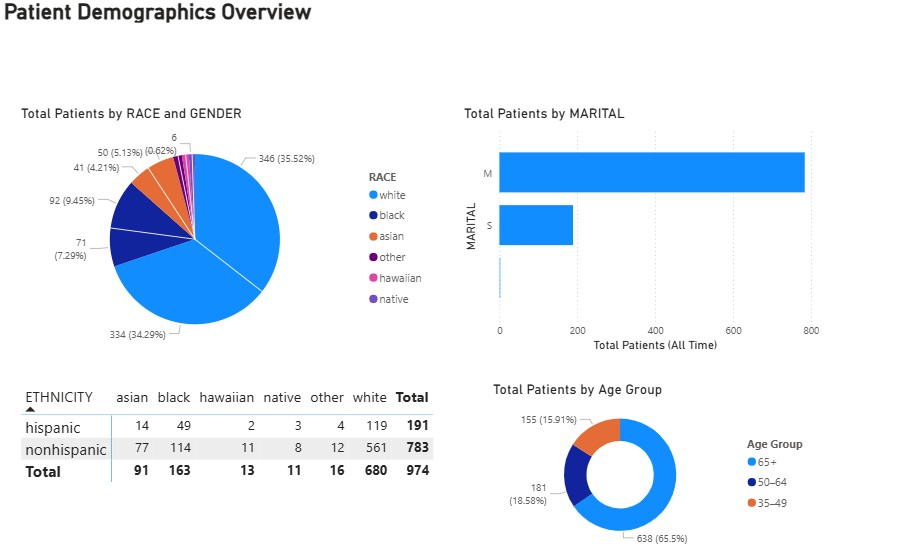

The page's visual inventory and layout, read from the dashboard file:
{"tool":"powerbi","page":{"name":"Patient Demographics","canvas":[1280,720],"ordinal":1},"visuals":[{"type":"pieChart","title":"Total Patients by RACE and GENDER","fields":{"Category":["patients.ETHNICITY","patients.MARITAL","patients.RACE"],"Series":["patients.GENDER"],"Y":["patients.Total Patients"]},"box":[34.9,144.6,507.3,307.8],"z":0},{"type":"clusteredBarChart","title":"Total Patients by MARITAL","fields":{"Category":["patients.MARITAL"],"Y":["patients.Total Patients (All Time)"]},"box":[574.6,144.6,442.5,305.4],"z":1000},{"type":"pivotTable","fields":{"Rows":["patients.ETHNICITY"],"Values":["patients.Total Patients (All Time)"],"Columns":["patients.RACE"]},"box":[34.9,481.1,539.7,209.4],"z":2000},{"type":"textbox","title":"Patient Demographics Overview","box":[14.5,14.5,625.4,34.5],"z":3000},{"type":"donutChart","title":"Total Patients by Age Group","fields":{"Category":["patients.Age Group"],"Y":["patients.Total Patients (All Time)"]},"box":[610.7,481.1,406.3,209.4],"z":4000}]}

Visuals, with their boxes on the page's 1280x720 design canvas (x1, y1, x2, y2). These are canvas units, not pixel positions in the 906x555 screenshot, which may show the page scaled, cropped or inside an application window:
"Total Patients by RACE and GENDER" pieChart: crop(35, 145, 542, 452)
"Total Patients by MARITAL" clusteredBarChart: crop(575, 145, 1017, 450)
pivotTable - patients.ETHNICITY x patients.Total Patients (All Time): crop(35, 481, 575, 690)
"Patient Demographics Overview" textbox: crop(14, 14, 640, 49)
"Total Patients by Age Group" donutChart: crop(611, 481, 1017, 690)
